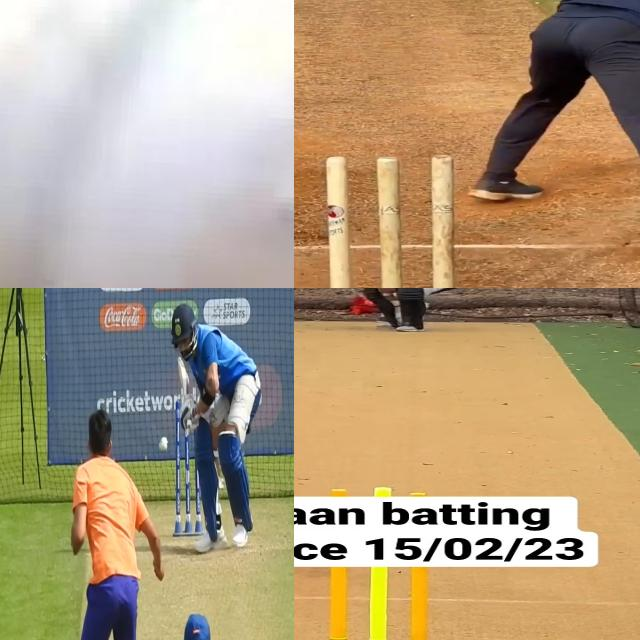Cricket ball: (0, 0, 294, 288), (158, 436, 170, 455)
Stumps: (323, 152, 457, 288), (314, 566, 444, 640), (175, 399, 202, 538)
